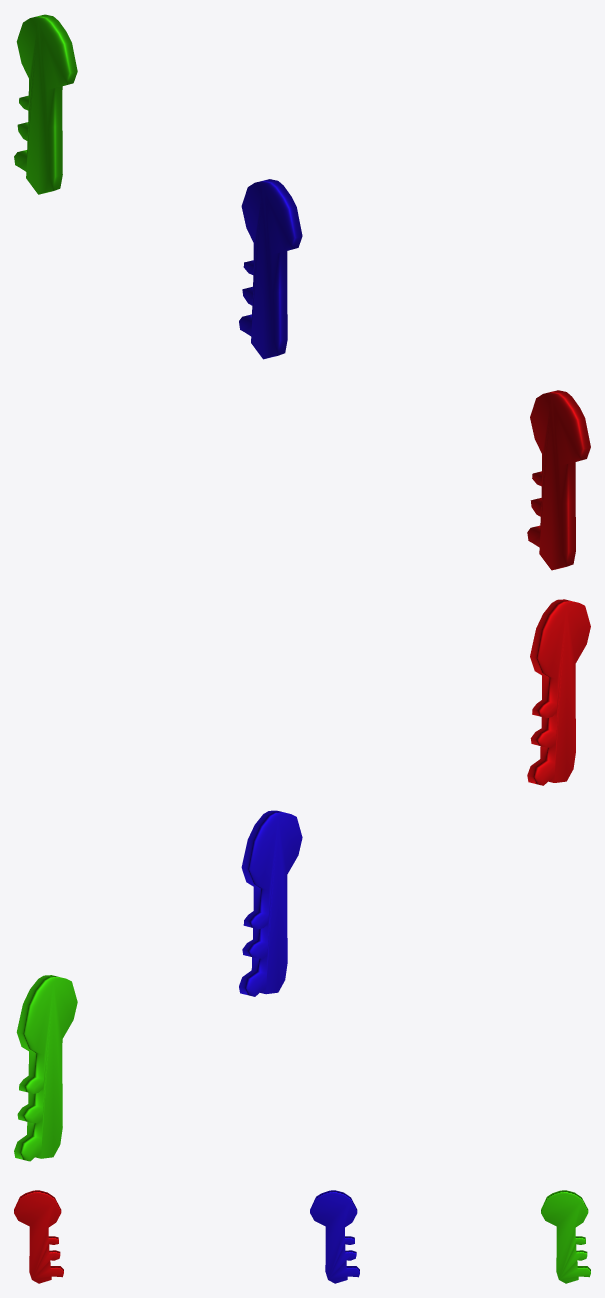
The model's file is ColoredKeys.fbx.
3 renders of one model, top to bottom at view 1: azimuth 30°, elevation 25°; view 2: azimuth 150°, elevation 25°; view 3: azimuth 270°, elevation 25°, orthographic. The views are drawn at different scales.
Visible parts, largest first — view 1: Cube.002, Cube.003, Cube.001; view 2: Cube.002, Cube.003, Cube.001; view 3: Cube.002, Cube.003, Cube.001.
Part boxes in pixels (<box>): Cube.002: <box>239,179,302,359</box>; Cube.003: <box>14,14,77,194</box>; Cube.001: <box>527,390,590,570</box>; Cube.002: <box>239,810,302,996</box>; Cube.003: <box>14,975,77,1161</box>; Cube.001: <box>527,599,590,785</box>; Cube.002: <box>310,1190,359,1283</box>; Cube.003: <box>541,1190,590,1283</box>; Cube.001: <box>14,1190,63,1283</box>.
Size of the model in its own units: 2.35 by 26.06 by 152.
